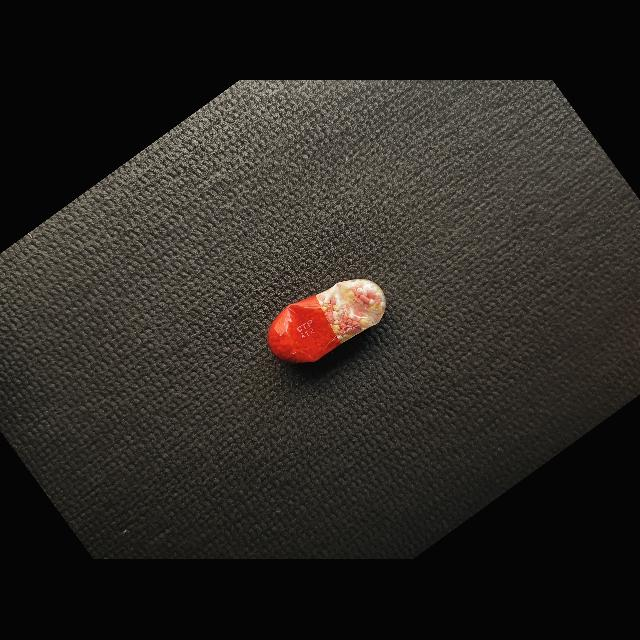Defective Capsule: (267, 279, 386, 364)
